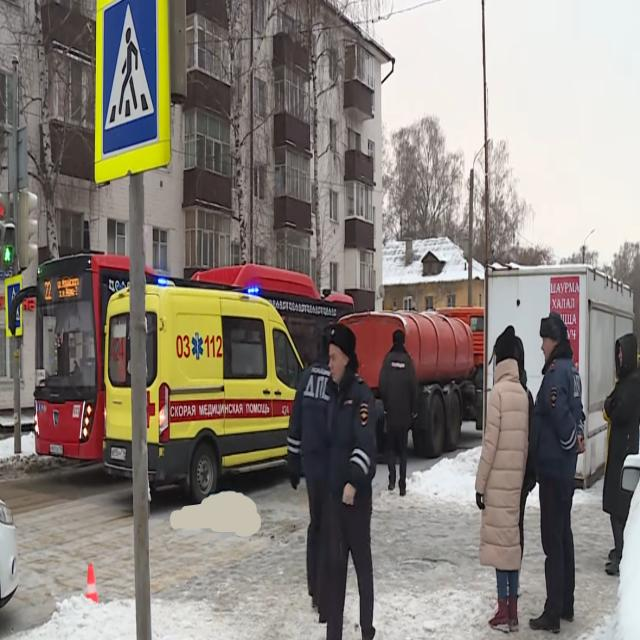intensive care unit: (108, 280, 310, 502)
non emergency car: (339, 299, 486, 462), (33, 256, 131, 464)
